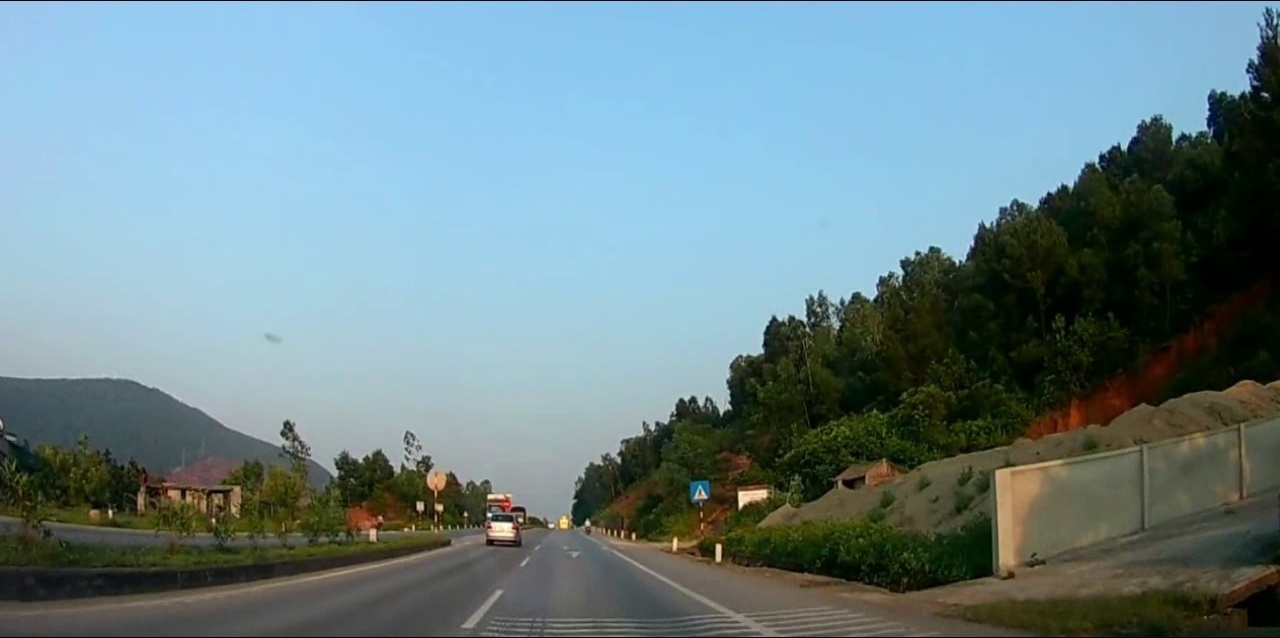Cam di nguoc chieu: (502, 498, 510, 508)
Nguoi di bo: (688, 477, 711, 502)
